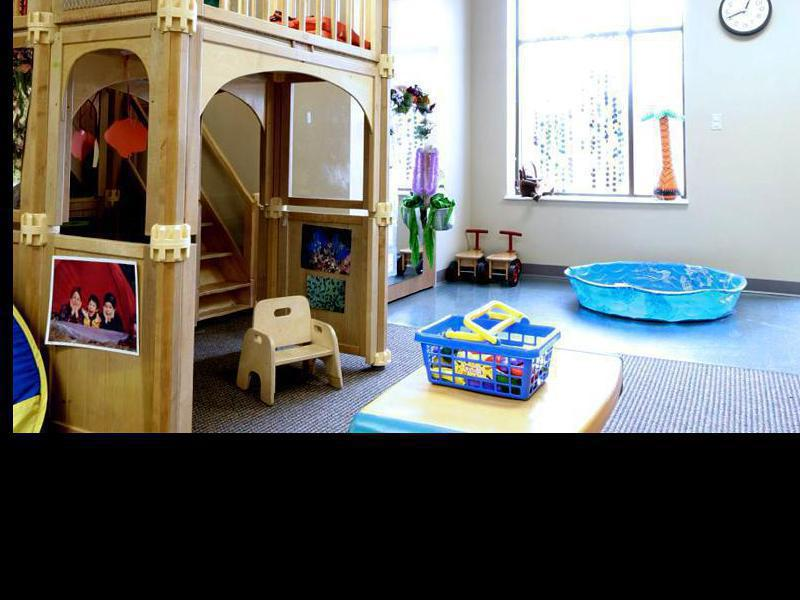Otro Obstaculo: (343, 316, 626, 432), (555, 255, 743, 320)
Puerta: (37, 25, 172, 425), (266, 74, 382, 349)
